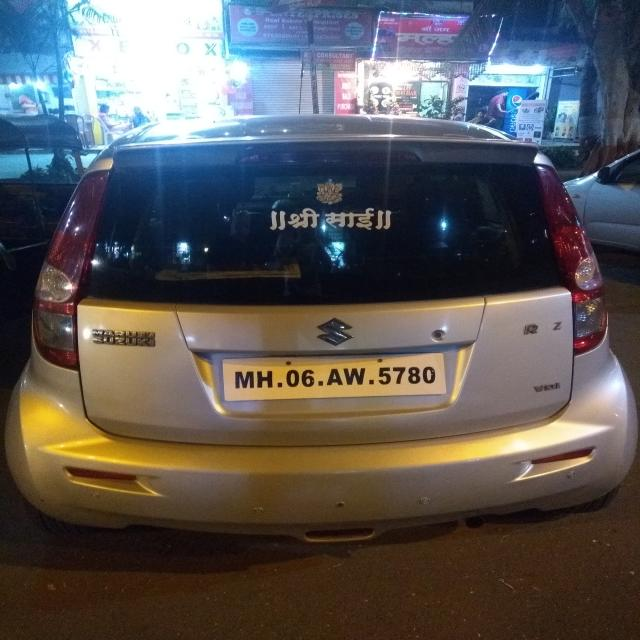Number-Plate: (223, 355, 446, 397)
